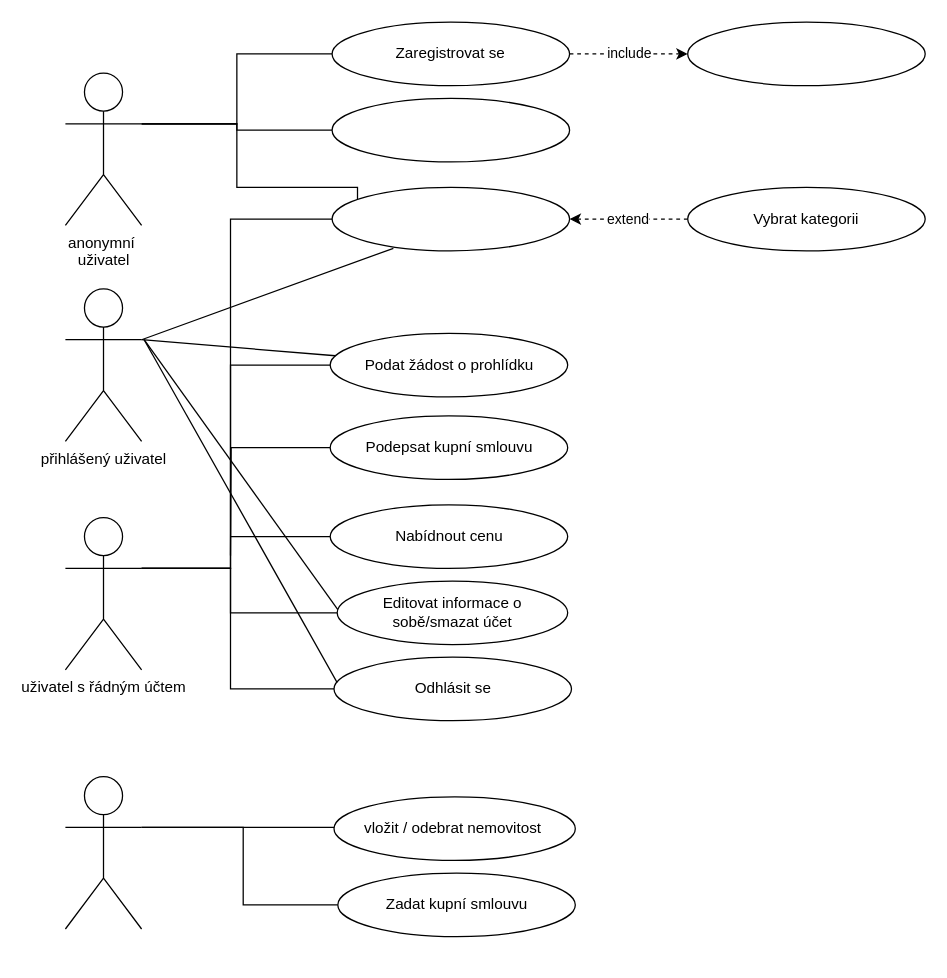
Image size: 947x978. Some labels were removed from this diagram. The centre of each missing label's shape, as x and y in pixels:
"Přihlásit se" goes at (450,129).
"Vyhledat nemovitost" goes at (450,218).
"Zadat informace o sobě" goes at (805,53).
"zaměstnanec" goes at (103,852).
